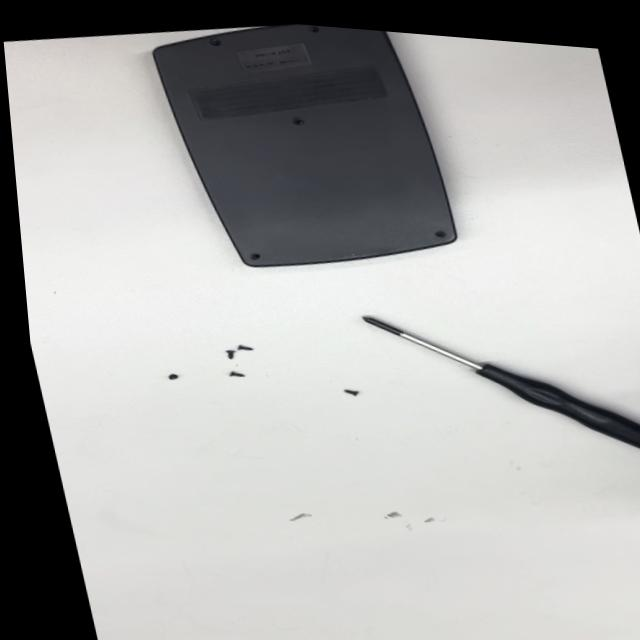back_cover: (140, 11, 469, 296)
screw: (233, 339, 266, 357), (223, 365, 252, 385), (338, 385, 367, 404), (219, 347, 241, 365), (163, 369, 184, 385)
screw_driver: (356, 270, 640, 511)
